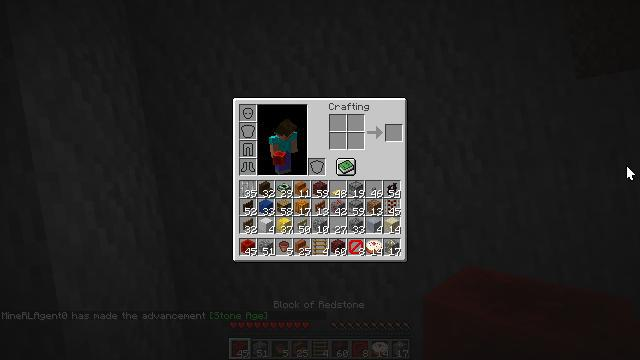cursor: (626, 165, 636, 181)
